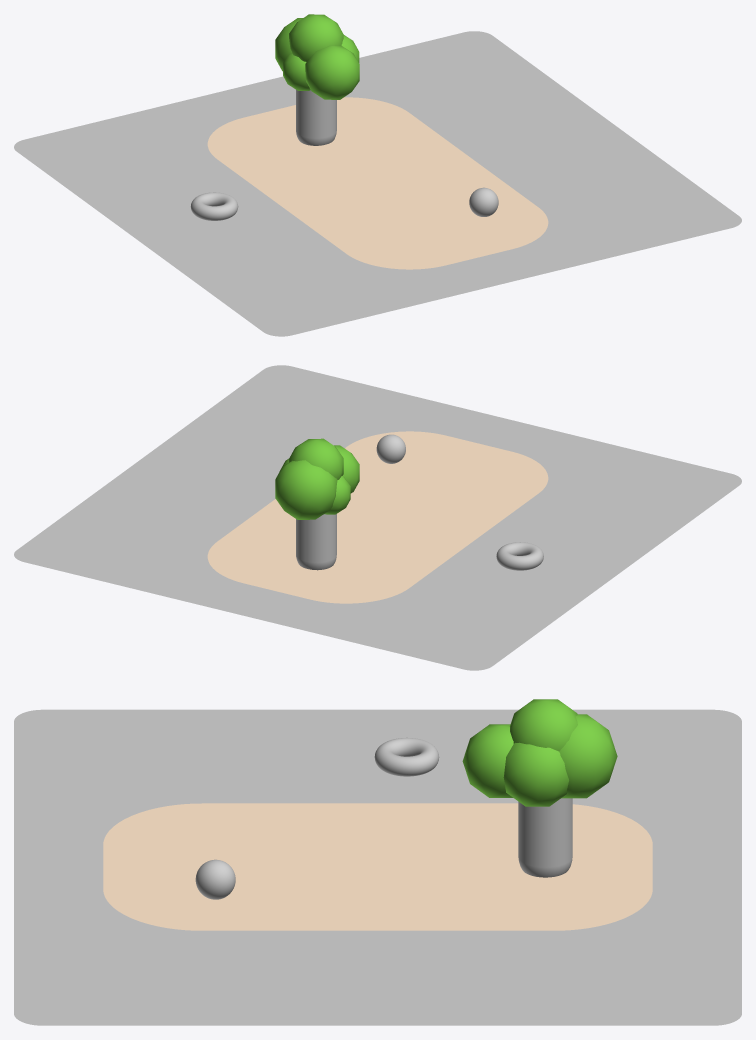
The model's file is island.obj.
3 renders of one model, top to bottom at view 1: azimuth 30°, elevation 25°; view 2: azimuth 150°, elevation 25°; view 3: azimuth 270°, elevation 25°, orthographic. The views are drawn at different scales.
Parts seen in each view (by area): view 1: 009_Plane_1, 008_Plane, 005_Polyhedron_1, 001_Box, 006_Polyhedron, 007_Torus, 002_Polyhedron_4, 000_Sphere, 004_Polyhedron_2; view 2: 009_Plane_1, 008_Plane, 004_Polyhedron_2, 001_Box, 006_Polyhedron, 007_Torus, 000_Sphere, 005_Polyhedron_1, 002_Polyhedron_4; view 3: 009_Plane_1, 008_Plane, 001_Box, 003_Polyhedron_3, 004_Polyhedron_2, 005_Polyhedron_1, 006_Polyhedron, 007_Torus, 000_Sphere.
Part boxes in pixels (x1,y1,x2,y2): 009_Plane_1: [14, 31, 741, 336]; 008_Plane: [207, 97, 548, 269]; 005_Polyhedron_1: [305, 45, 359, 99]; 001_Box: [296, 90, 336, 145]; 006_Polyhedron: [289, 14, 343, 61]; 007_Torus: [190, 192, 238, 220]; 002_Polyhedron_4: [283, 54, 310, 90]; 000_Sphere: [469, 187, 498, 216]; 004_Polyhedron_2: [275, 18, 302, 71]; 009_Plane_1: [14, 365, 741, 670]; 008_Plane: [207, 431, 548, 603]; 004_Polyhedron_2: [275, 460, 337, 519]; 001_Box: [296, 514, 336, 570]; 006_Polyhedron: [289, 438, 343, 479]; 007_Torus: [496, 542, 543, 570]; 000_Sphere: [376, 434, 405, 463]; 005_Polyhedron_1: [334, 445, 359, 493]; 002_Polyhedron_4: [324, 476, 350, 514]; 009_Plane_1: [14, 709, 741, 1025]; 008_Plane: [103, 803, 652, 930]; 001_Box: [518, 798, 572, 877]; 003_Polyhedron_3: [503, 742, 568, 806]; 004_Polyhedron_2: [559, 714, 617, 798]; 005_Polyhedron_1: [462, 724, 513, 797]; 006_Polyhedron: [510, 699, 577, 751]; 007_Torus: [374, 737, 439, 776]; 000_Sphere: [195, 859, 235, 899].
Size of the model in its own units: 299 by 79.15 by 291.
